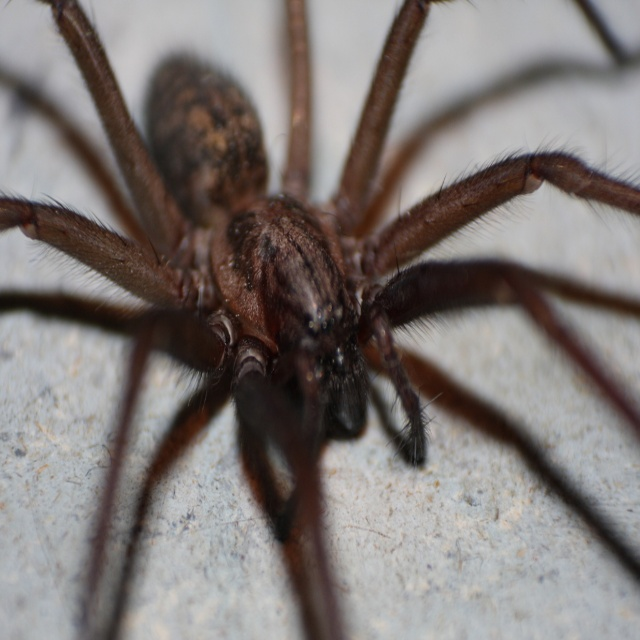Spider: (0, 1, 640, 640)
